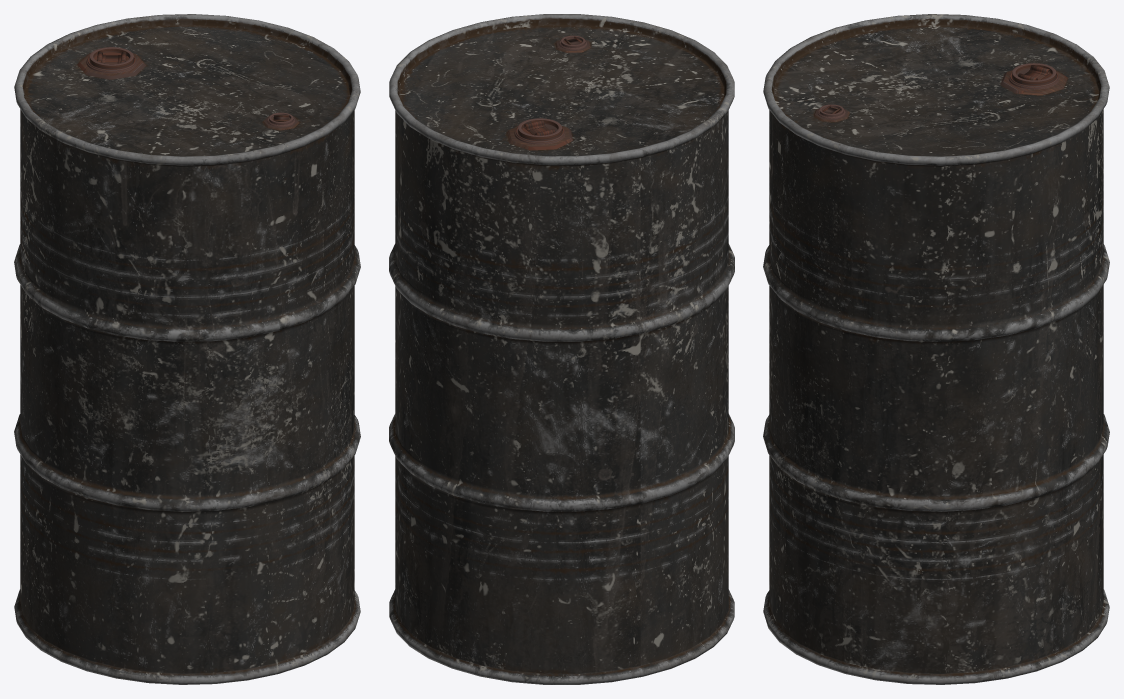
Rendered from ThungSatDen.fbx.
3 renders of one model, left to right at view 1: azimuth 30°, elevation 25°; view 2: azimuth 150°, elevation 25°; view 3: azimuth 270°, elevation 25°, orthographic.
Visible parts, largest first — view 1: Barrel4_low; view 2: Barrel4_low; view 3: Barrel4_low.
Part boxes in pixels (box(x1,y1,x2,y2)): Barrel4_low: box(14, 14, 360, 684); Barrel4_low: box(389, 14, 734, 684); Barrel4_low: box(763, 14, 1109, 684).
Size of the model in its own units: 63.82 by 107 by 63.82.
Materials: 2 (2 with a texture image).
